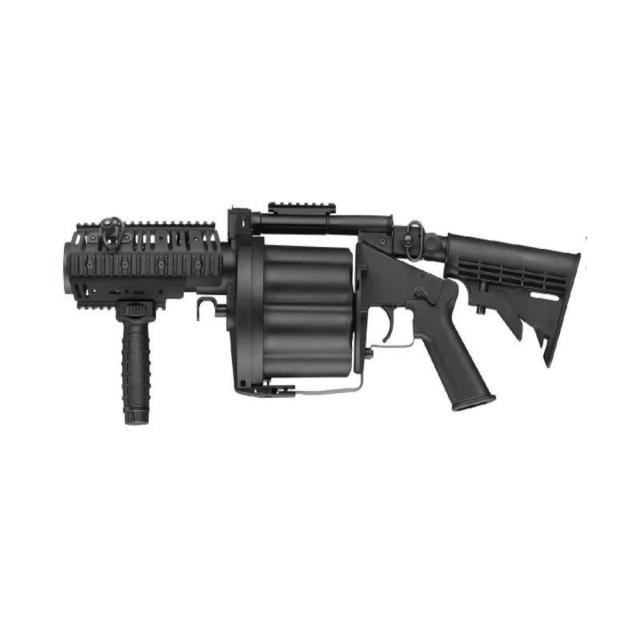Lancher: (49, 138, 602, 540)
